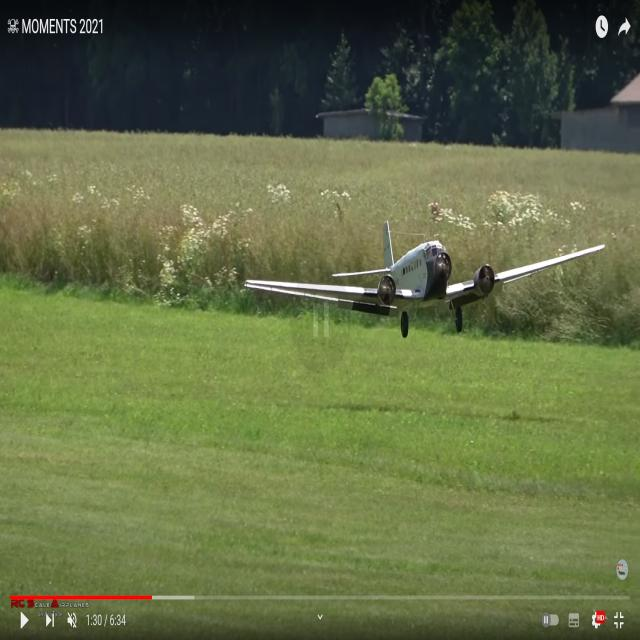iha: (226, 254, 615, 306)
